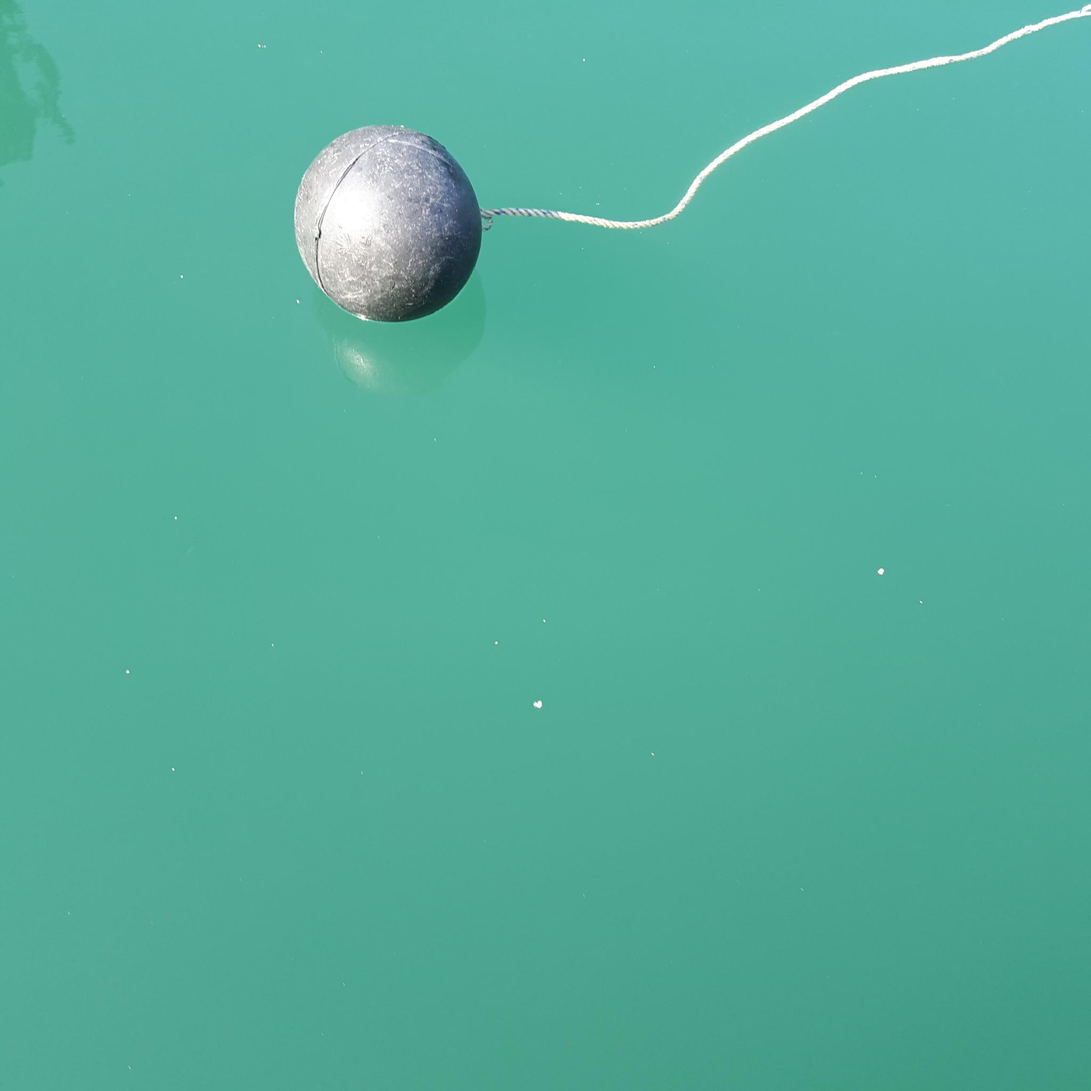sampah_terapung: (479, 5, 1091, 232), (294, 125, 483, 323)
